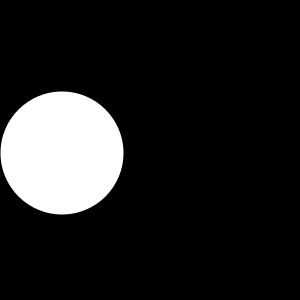rectangle: (1, 92, 123, 214)
